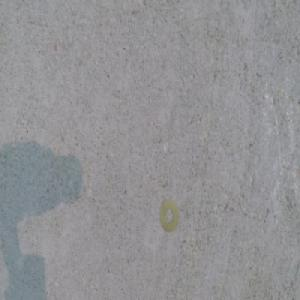Washer: (158, 200, 179, 234)
